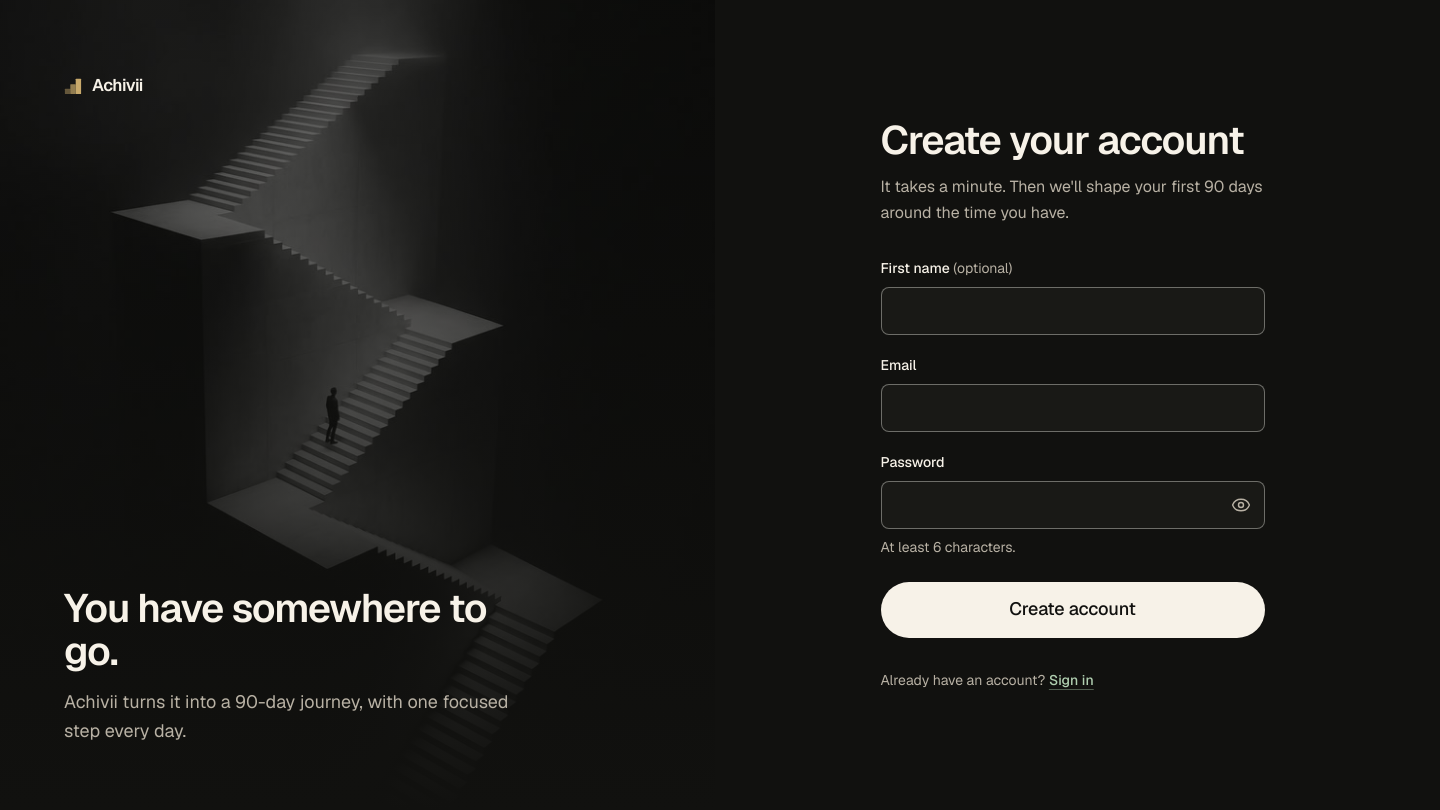
email confirmation (B-15) › sign-up that needs a confirmed email shows the inbox line, not an error
The image size is (1440, 810).
In the field labelled "Email": (1072, 408) [880,384,1264,432], type "mo@example.com"
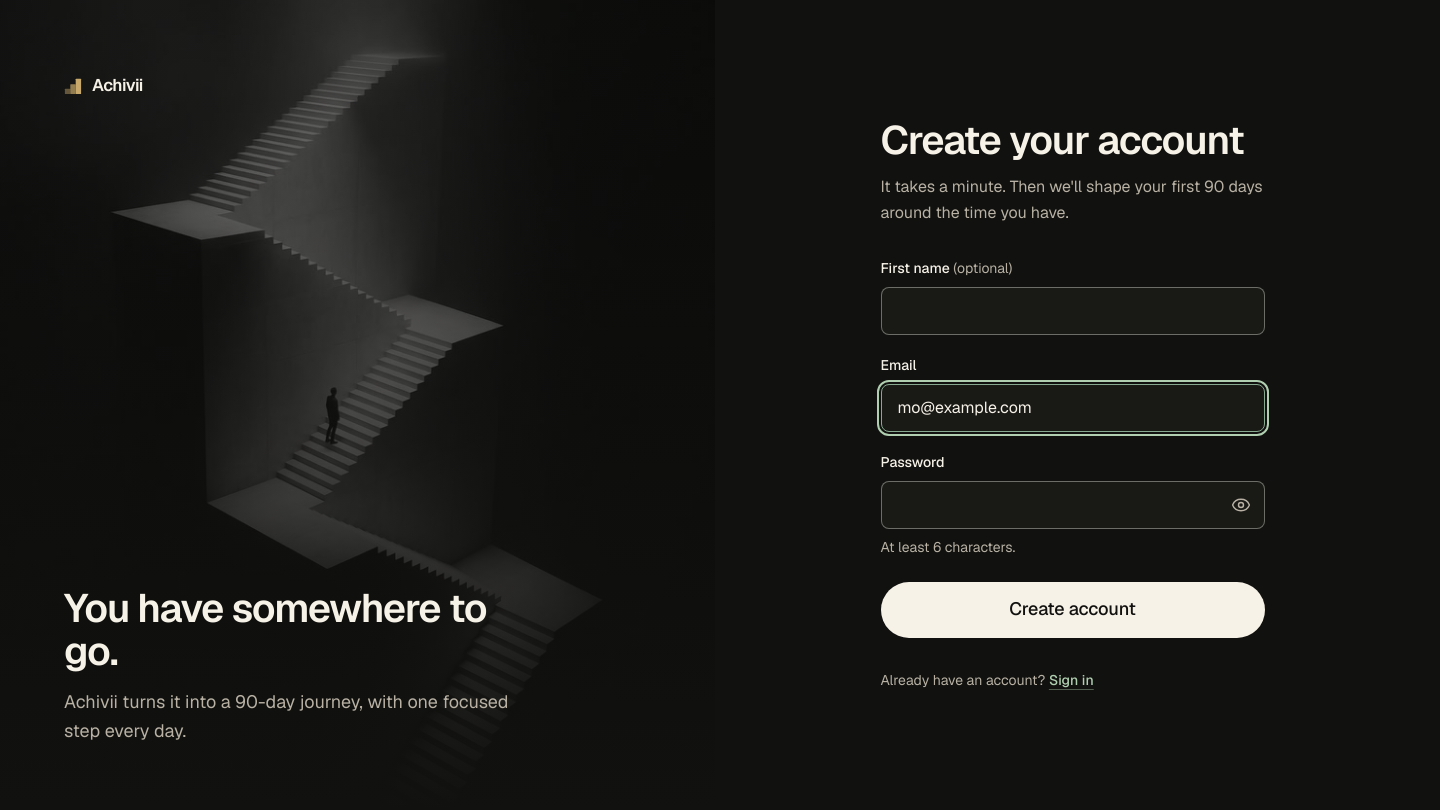
In the password field labelled "Password": (1072, 504) [880,480,1264,528], type "secret-pass"
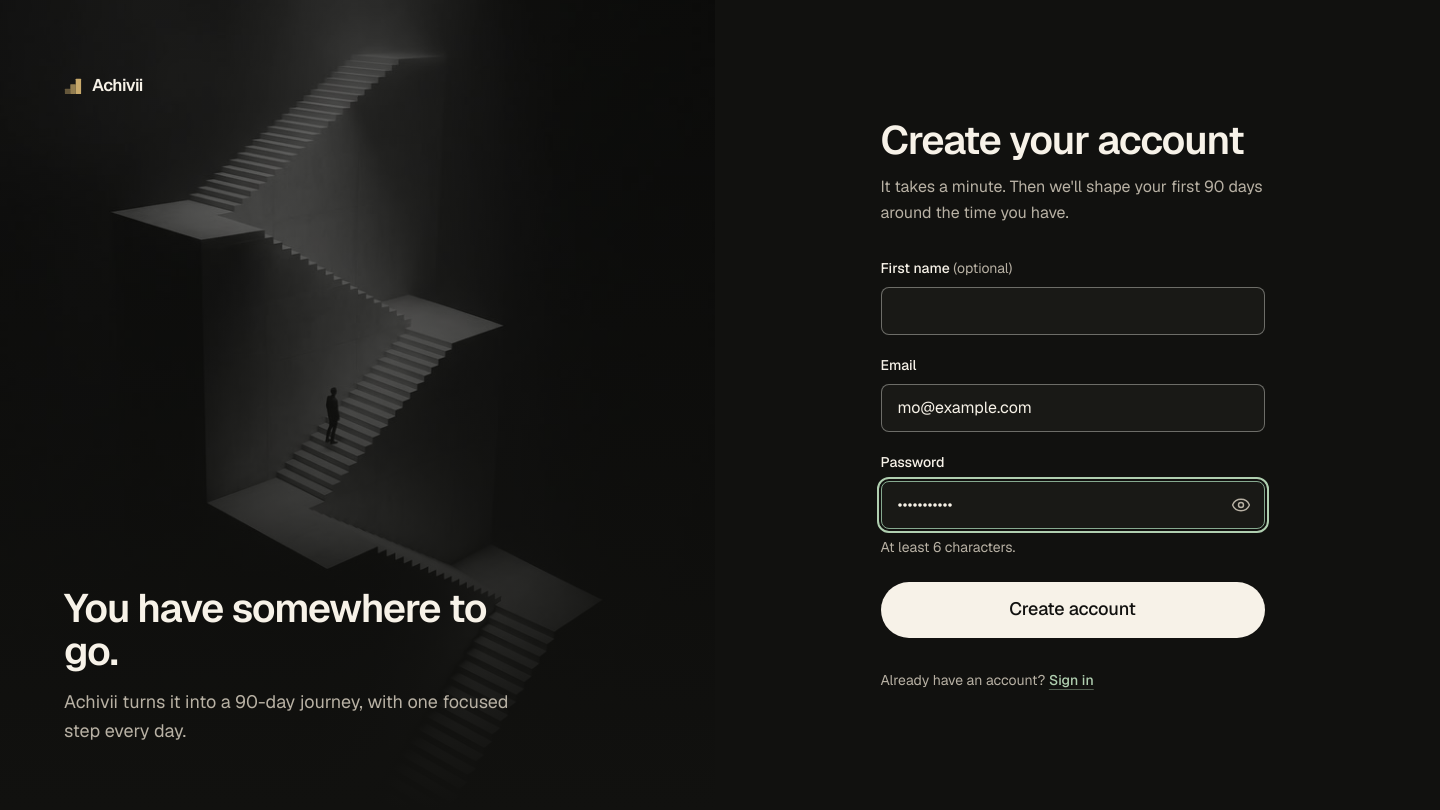
Click the button "Create account": (1072, 610) [880,582,1264,638]
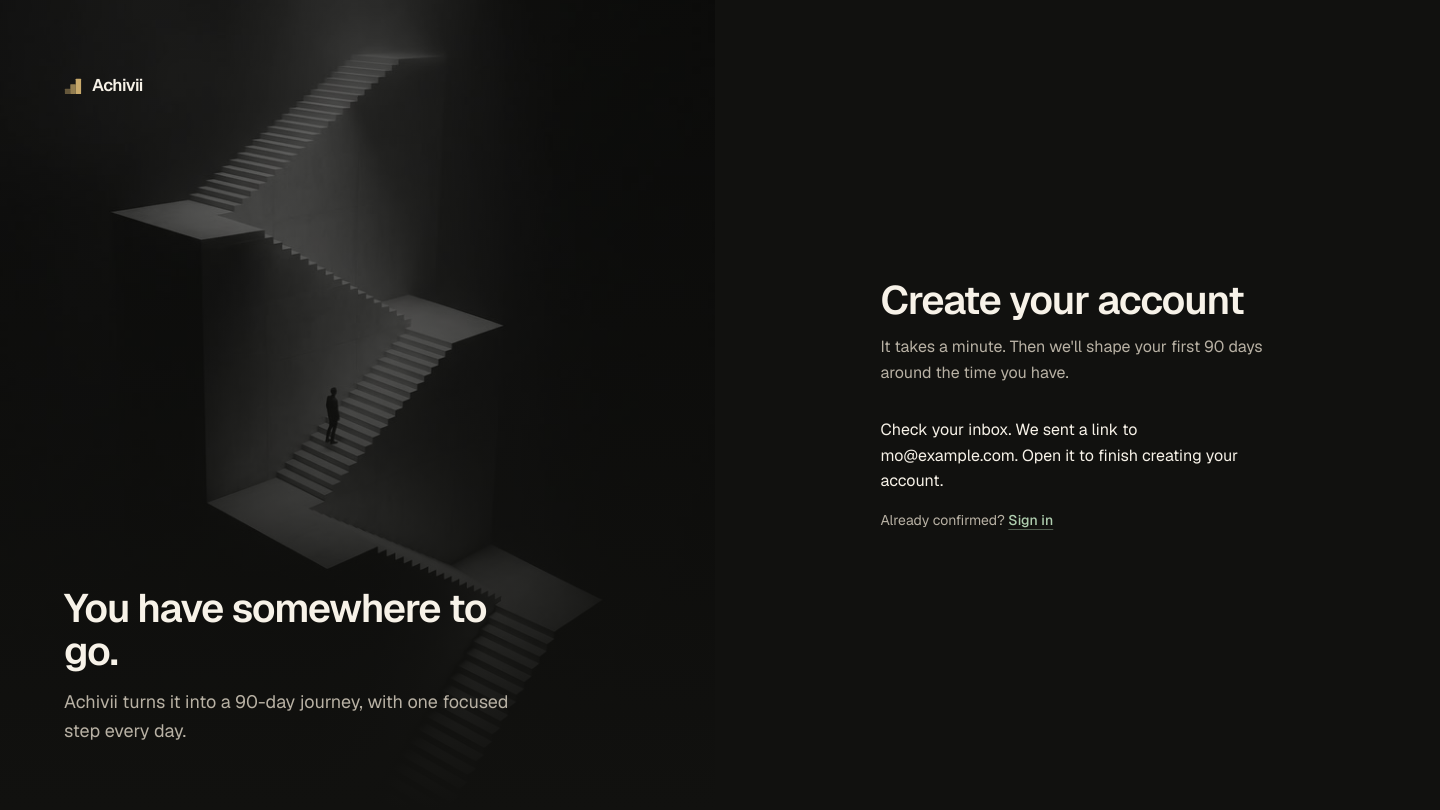
Now the message shows "Check your inbox. We sent a link to mo@example.com.", box [880,417,1264,531]
